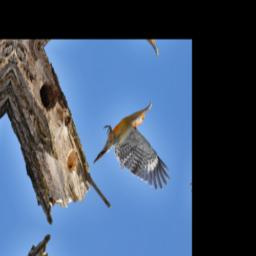Woodpecker: (91, 87, 180, 195)
